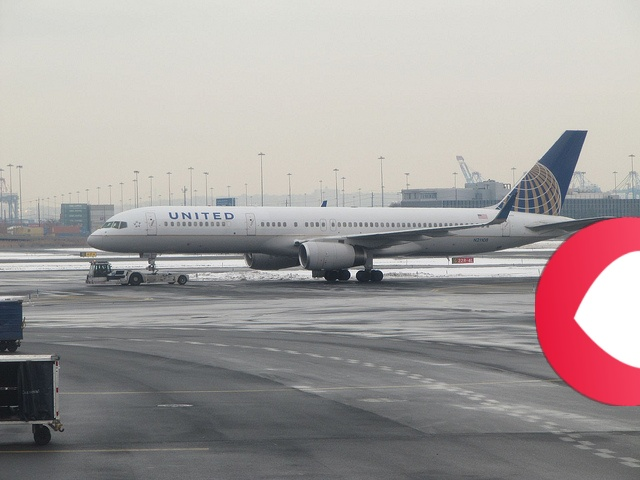love: (535, 217, 640, 406)
